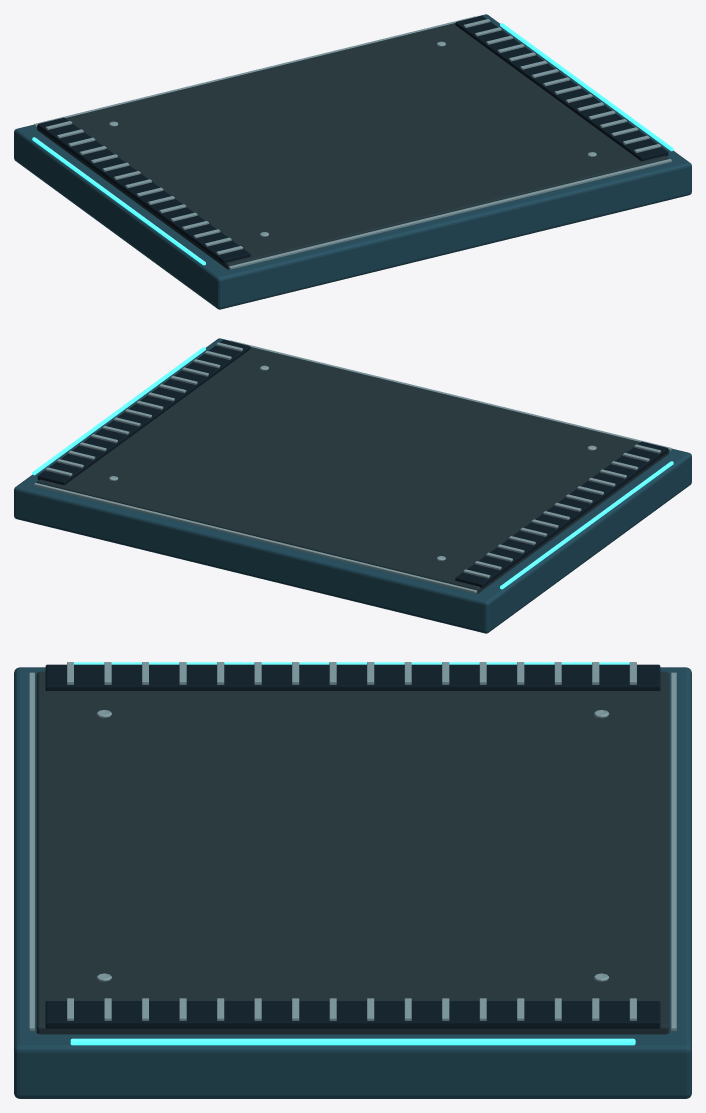
The model's file is SM_CorridorFloor.fbx.
The picture shows the model from 3 angles, top to bottom: view 1: azimuth 30°, elevation 25°; view 2: azimuth 150°, elevation 25°; view 3: azimuth 270°, elevation 25°; orthographic projection. The views are drawn at different scales.
Parts seen in each view (by area): view 1: SM_CorridorFloor; view 2: SM_CorridorFloor; view 3: SM_CorridorFloor.
Boxes of the visible parts, x1=… form: SM_CorridorFloor: x1=14, y1=14, x2=691, y2=309; SM_CorridorFloor: x1=14, y1=338, x2=691, y2=633; SM_CorridorFloor: x1=14, y1=662, x2=691, y2=1098.
Bounding box in the file's own units: 400 × 300 × 34.1.
